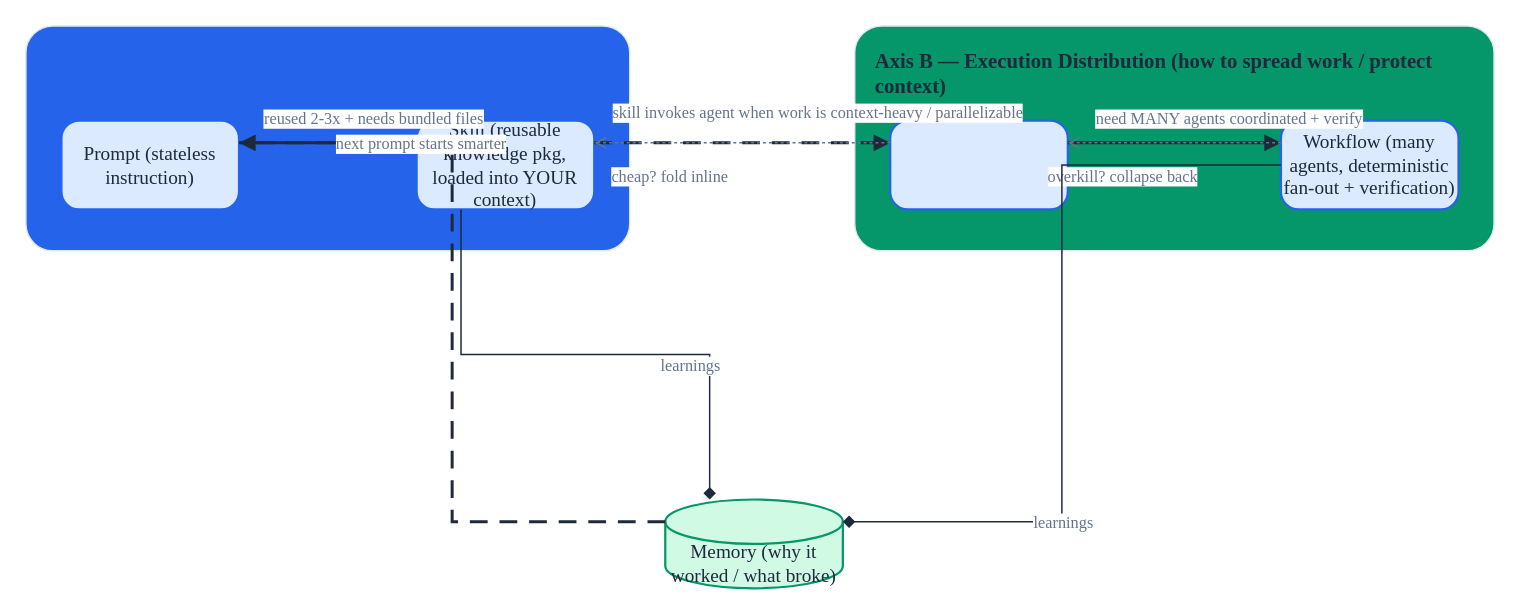
This 1520x616 diagram has some shape labels left out. The box of each missing label's shape, as (x1, y1, x2, y2) in pixels:
Agent (separate context window, returns conclusion only): (888, 119, 1068, 210)
Axis A — Knowledge Capture (what to do): (24, 24, 630, 251)
